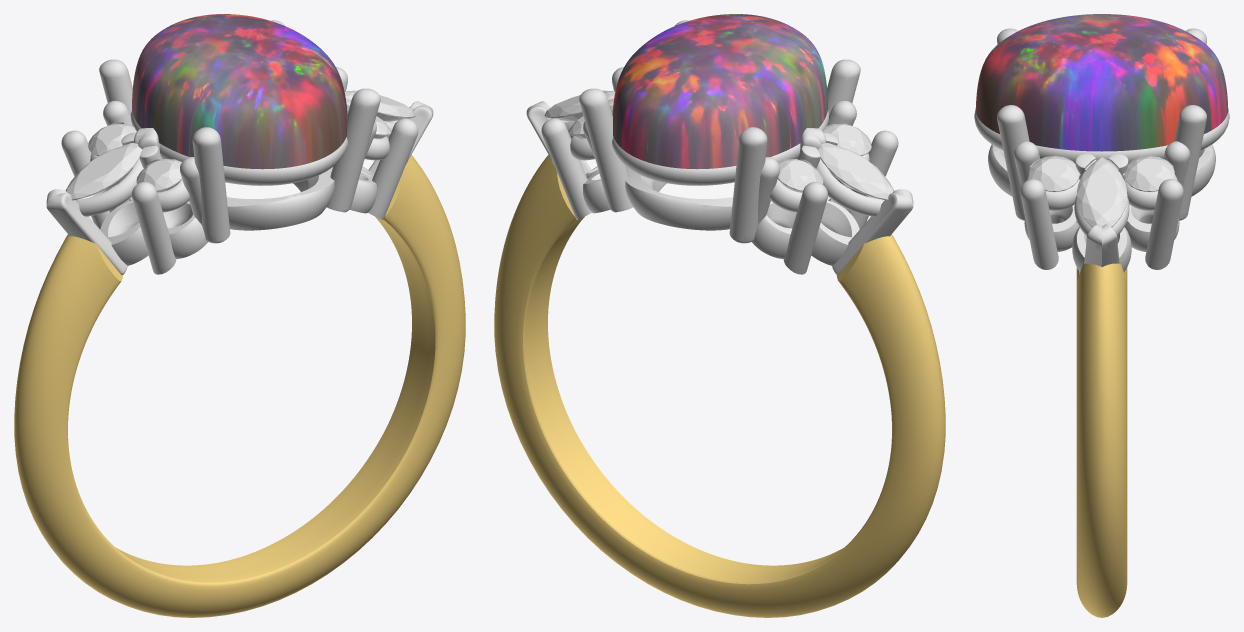
The model's file is OpalFULLIMAGE.glb.
3 renders of one model, left to right at view 1: azimuth 30°, elevation 25°; view 2: azimuth 150°, elevation 25°; view 3: azimuth 270°, elevation 25°, orthographic.
Visible parts, largest first — view 1: Zach YG for 3d model, Zach PT for 3d model, Zach opal for 3d model, Zach dia for 3d model.001, Zach dia for 3d model.005, Zach dia for 3d model, Zach dia for 3d model.004; view 2: Zach YG for 3d model, Zach PT for 3d model, Zach opal for 3d model, Zach dia for 3d model.001, Zach dia for 3d model, Zach dia for 3d model.005, Zach dia for 3d model.004; view 3: Zach opal for 3d model, Zach PT for 3d model, Zach YG for 3d model, Zach dia for 3d model.004, Zach dia for 3d model.002, Zach dia for 3d model.003.
Boxes of the visible parts, x1,y1,x2,y2 form: Zach YG for 3d model: (14,155,465,617); Zach PT for 3d model: (46,20,433,274); Zach opal for 3d model: (132,14,347,169); Zach dia for 3d model.001: (65,143,142,200); Zach dia for 3d model.005: (136,159,182,192); Zach dia for 3d model: (88,123,136,155); Zach dia for 3d model.004: (344,90,415,121); Zach YG for 3d model: (494,155,945,617); Zach PT for 3d model: (526,20,913,274); Zach opal for 3d model: (612,14,827,169); Zach dia for 3d model.001: (817,143,894,200); Zach dia for 3d model: (777,159,823,192); Zach dia for 3d model.005: (823,123,871,155); Zach dia for 3d model.004: (544,90,615,121); Zach opal for 3d model: (975,14,1228,151); Zach PT for 3d model: (974,28,1229,271); Zach YG for 3d model: (1076,263,1127,617); Zach dia for 3d model.004: (1076,157,1127,227); Zach dia for 3d model.002: (1029,156,1079,191); Zach dia for 3d model.003: (1124,156,1174,191).
Bounding box in the file's own units: 20.09 × 24.54 × 10.1.
4 materials, 1 textured.
